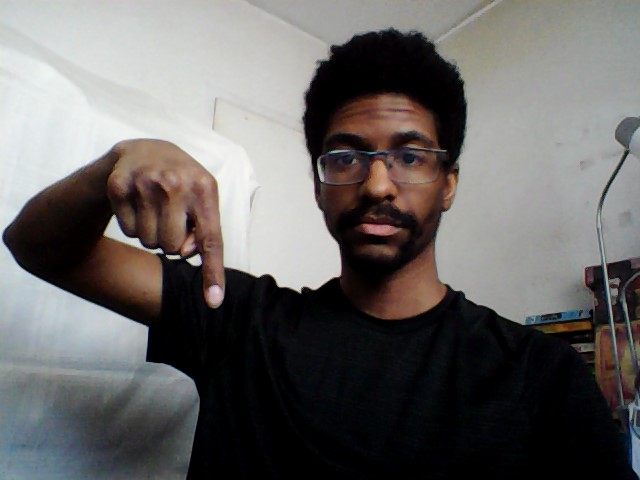q: (104, 133, 234, 315)
